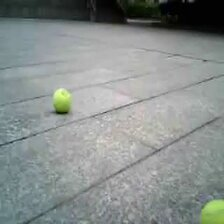tennis: (200, 197, 224, 224), (53, 86, 70, 111)
